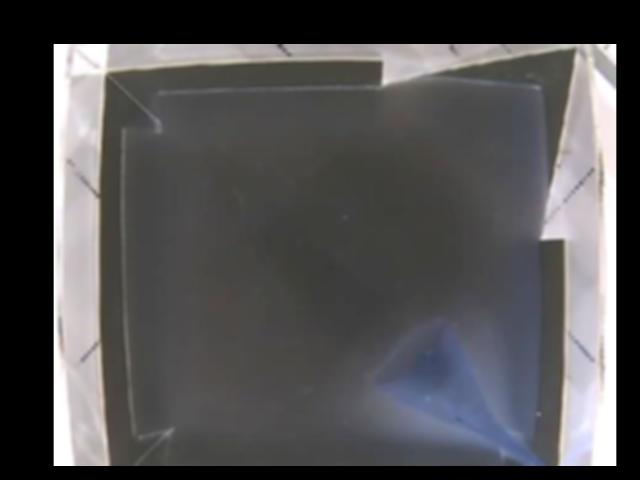Mooli: (370, 319, 509, 439)
